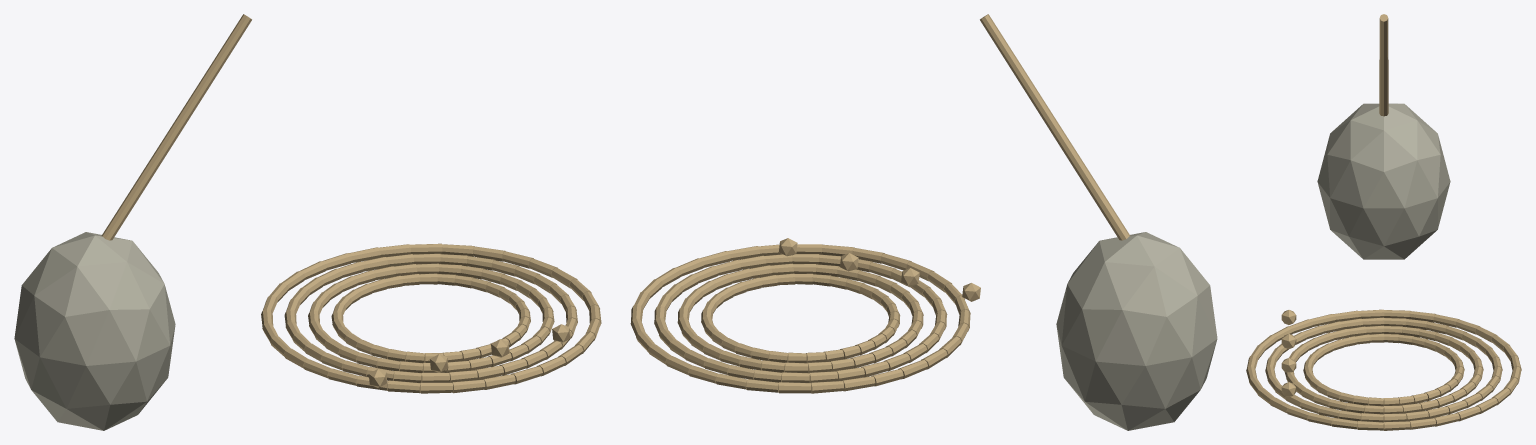
3 renders of one model, left to right at view 1: azimuth 30°, elevation 25°; view 2: azimuth 150°, elevation 25°; view 3: azimuth 270°, elevation 25°, orthographic. The views are drawn at different scales.
Parts seen in each view (by area): view 1: CE-048 Stone-weighted sounding line batched; view 2: CE-048 Stone-weighted sounding line batched; view 3: CE-048 Stone-weighted sounding line batched.
Boxes of the visible parts, x1,y1,x2,y2 form: CE-048 Stone-weighted sounding line batched: [14, 14, 601, 430]; CE-048 Stone-weighted sounding line batched: [630, 14, 1217, 430]; CE-048 Stone-weighted sounding line batched: [1246, 14, 1521, 430].
Size of the model in its own units: 0.5415 by 0.3528 by 0.29.
